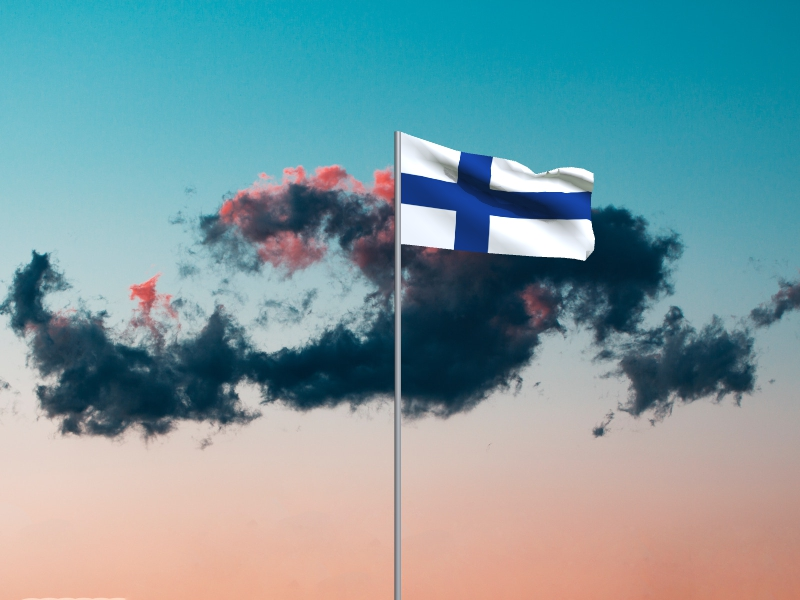fi: (402, 133, 597, 262)
